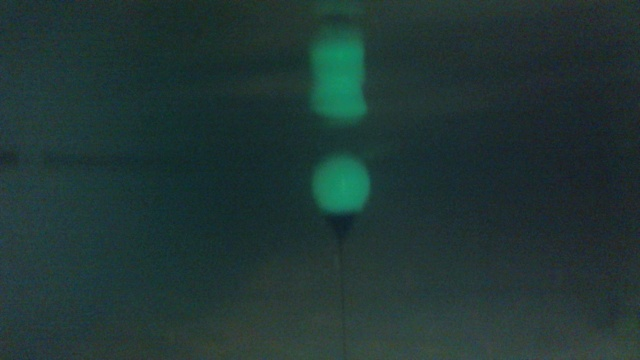buoy_green: (308, 145, 371, 237)
